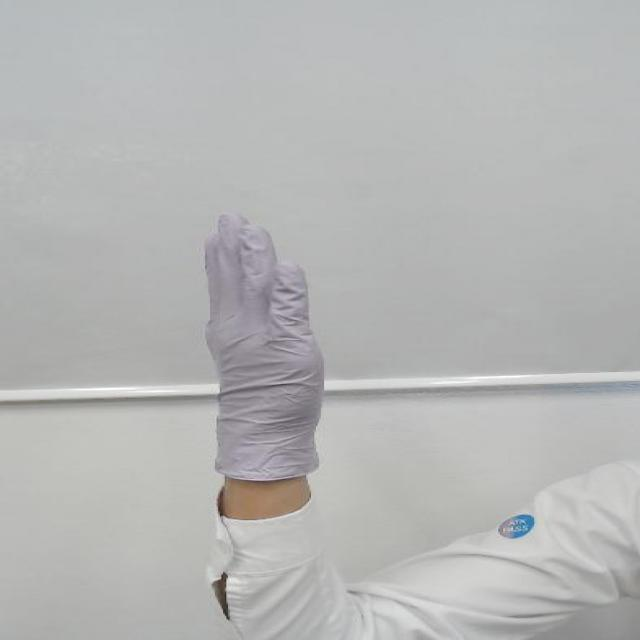with_gloves: (165, 198, 353, 416)
